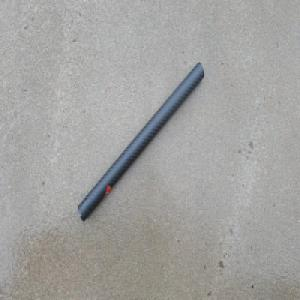LuggagePart: (76, 61, 204, 223)
